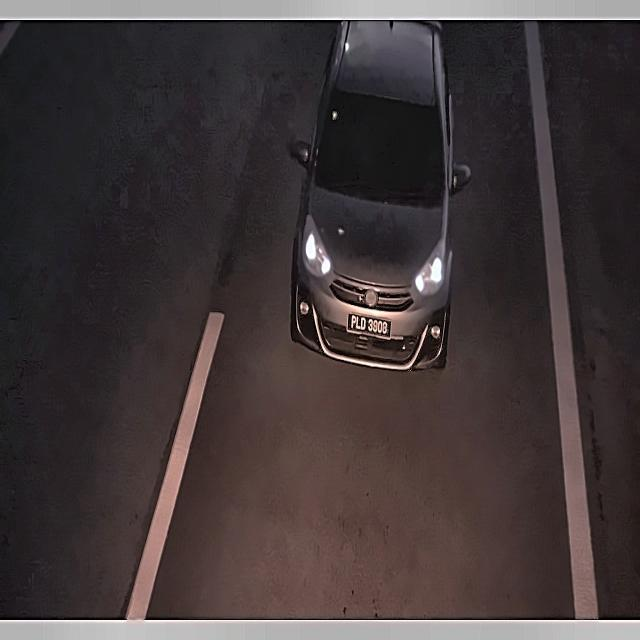car: (345, 307, 396, 345)
